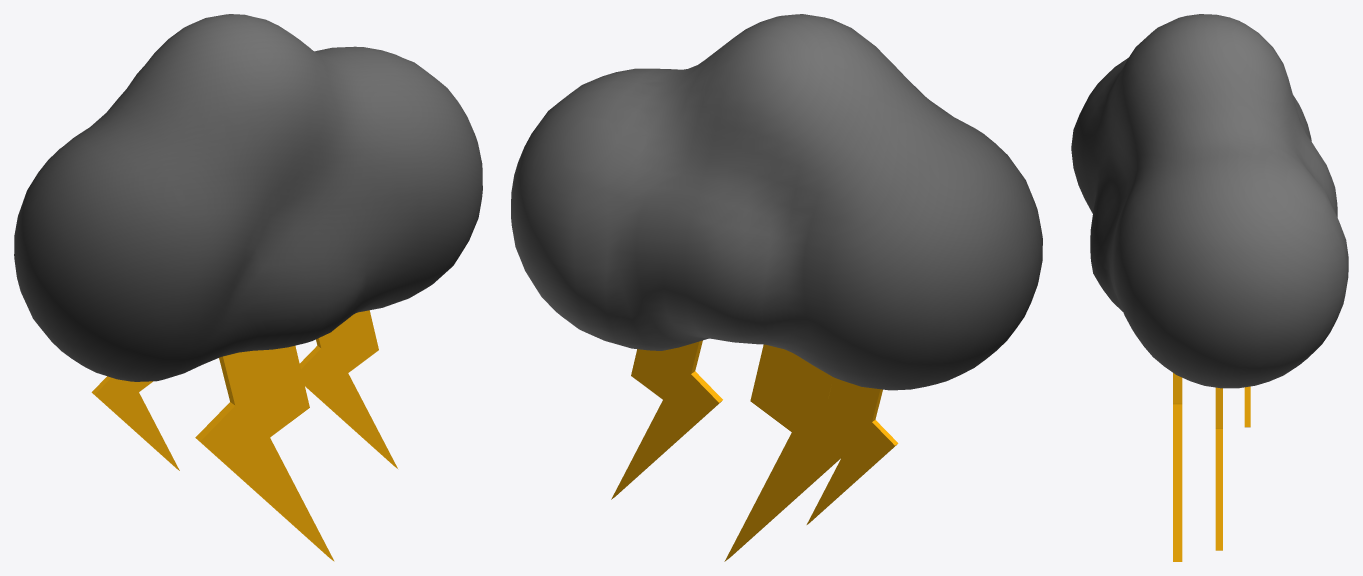
The model's file is 95&97_HujanPetir.fbx.
3 views of the same model, side by side, from view 1: azimuth 30°, elevation 25°; view 2: azimuth 150°, elevation 25°; view 3: azimuth 270°, elevation 25° (orthographic). The views are drawn at different scales.
Parts seen in each view (by area): view 1: HujanPetir; view 2: HujanPetir; view 3: HujanPetir.
Part boxes in pixels (x1=…): HujanPetir: x1=14, y1=14, x2=482, y2=561; HujanPetir: x1=511, y1=14, x2=1042, y2=561; HujanPetir: x1=1071, y1=14, x2=1348, y2=561.
Size of the model in its own units: 478 by 549 by 275.
